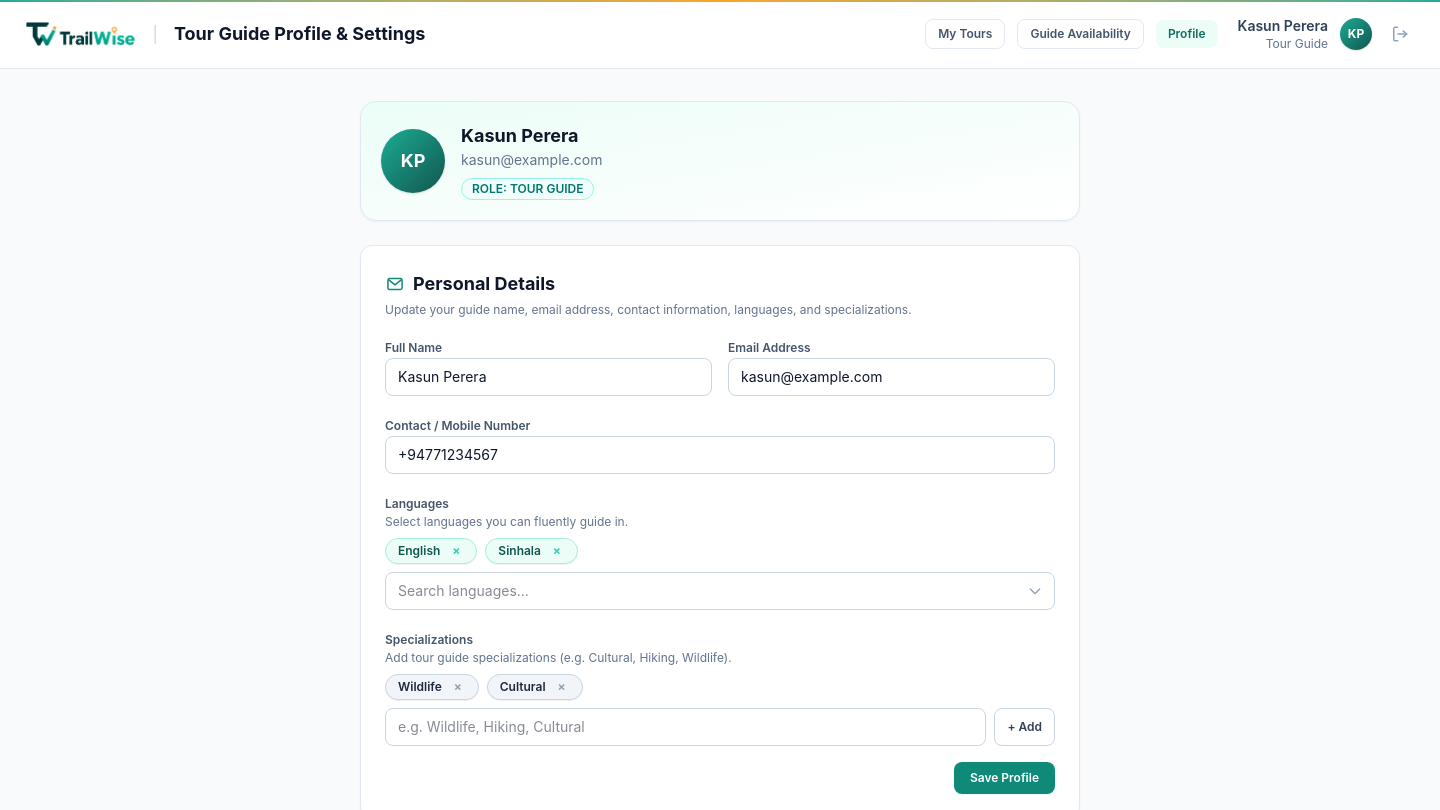
Scenario: GuideProfilePage › 10. save sends string[] array directly to updateMyGuideProfile
Expected: the text "English" is shown, [398,543,440,559]
Remove English chip
Click the button named "Remove English" at (456, 551), box [448,543,464,559]
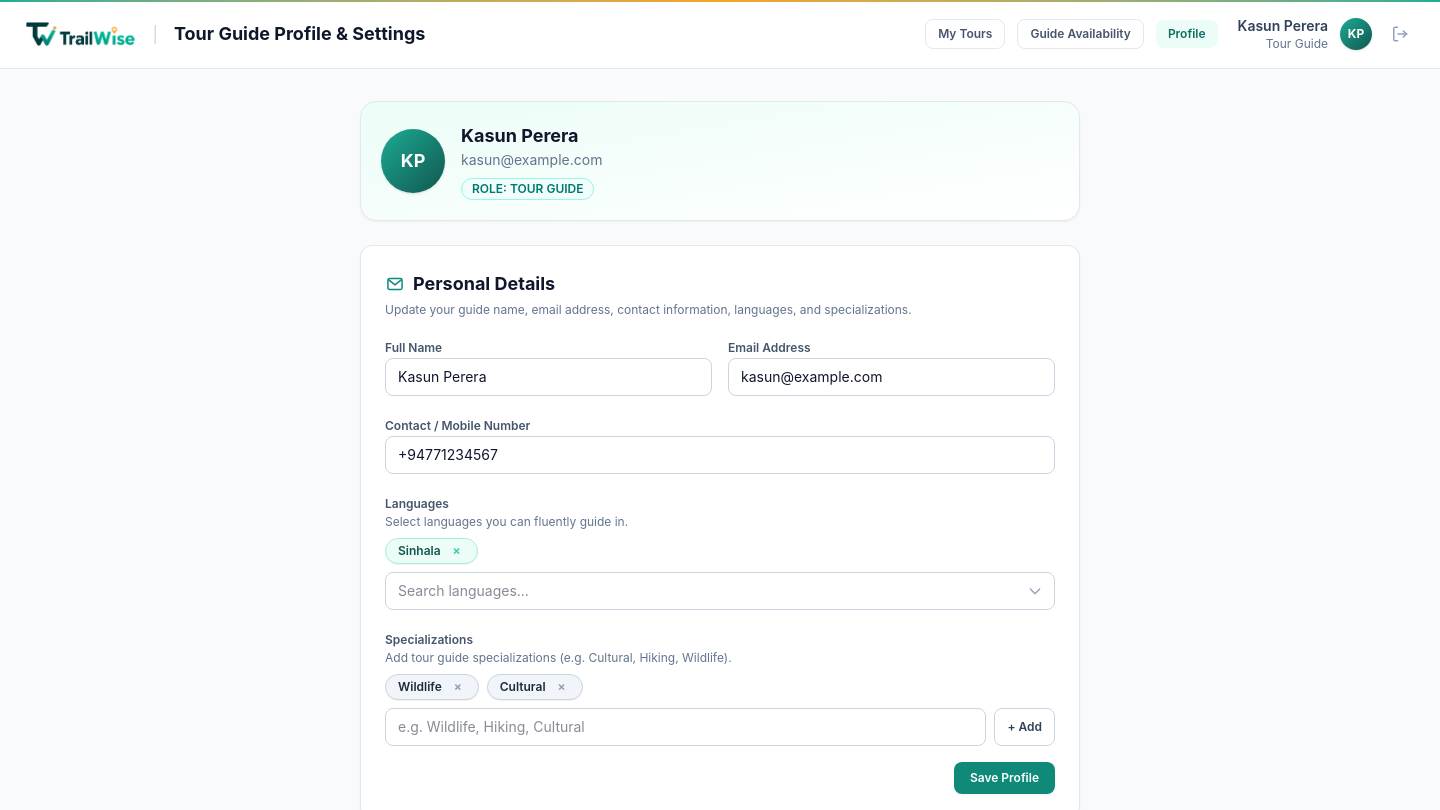
Add German via searchable combobox
Type "ger" into the dropdown with placeholder "Search languages..." at (720, 591), box [385,572,1055,610]
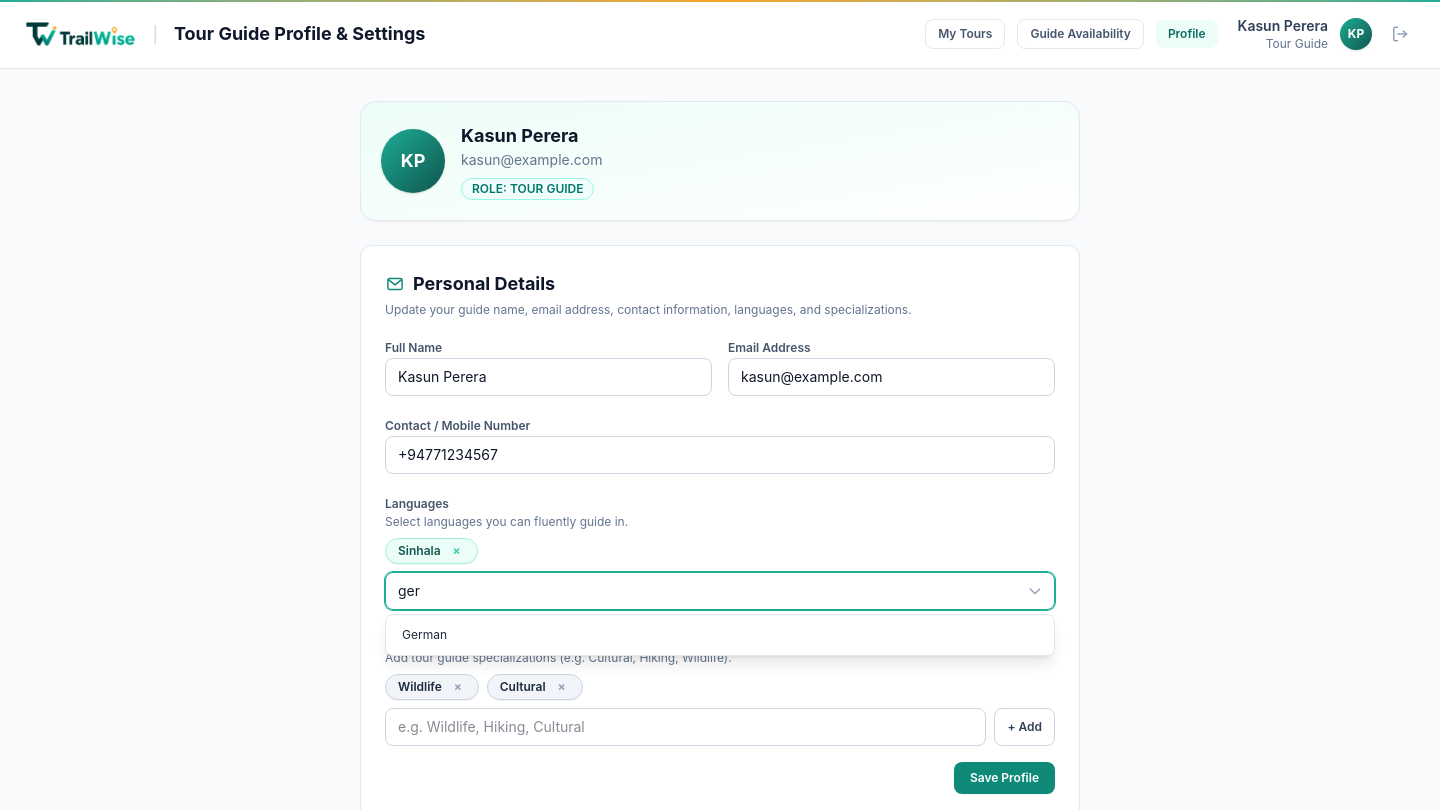
Click the option "German" at (424, 634), box [386,619,1054,651]
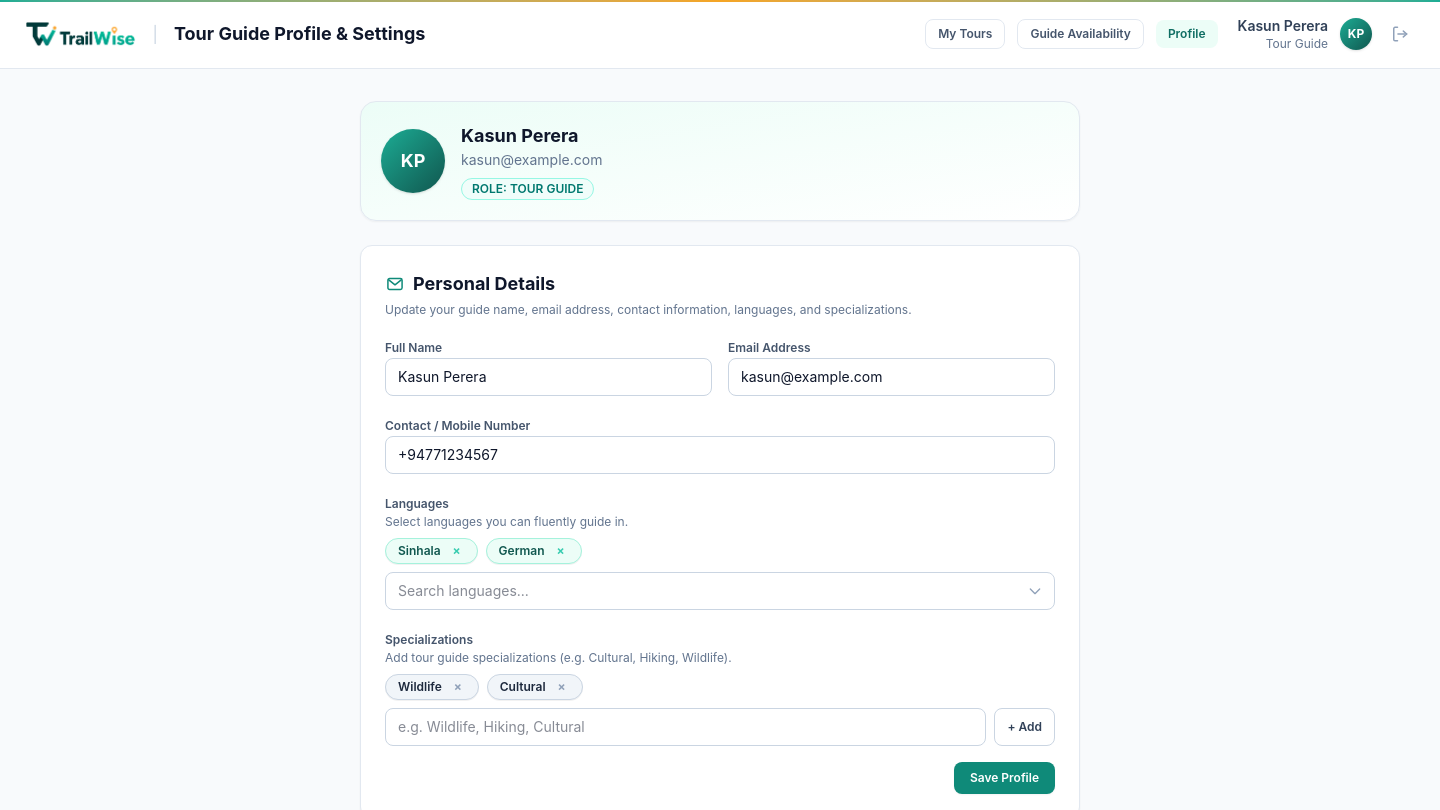
Add Hiking specialization
Type "Hiking" into the field with test id "specialization-input" at (686, 727), box [385,708,986,746]
Then press Enter
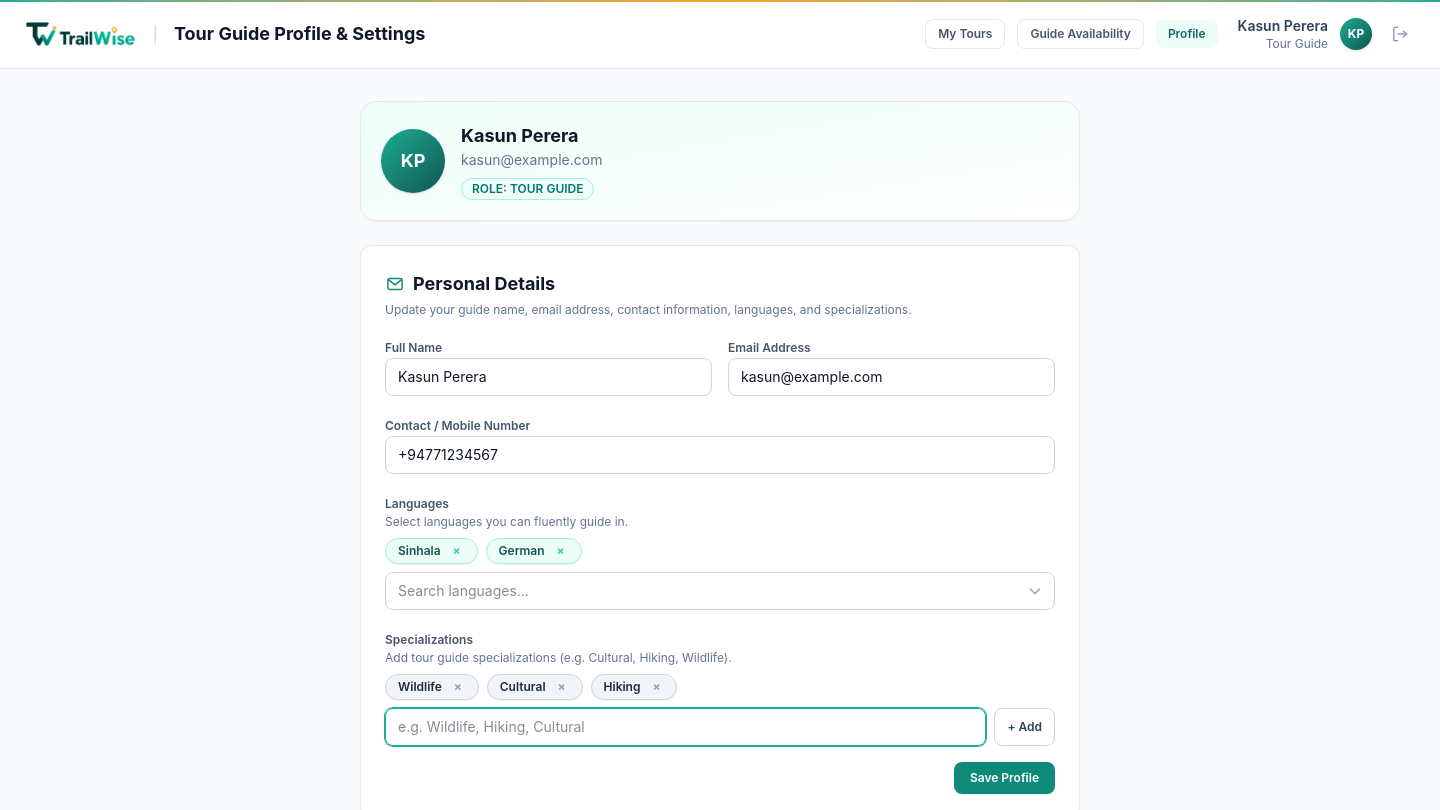
Click the button "Save Profile" at (1004, 778), box [954,762,1055,794]
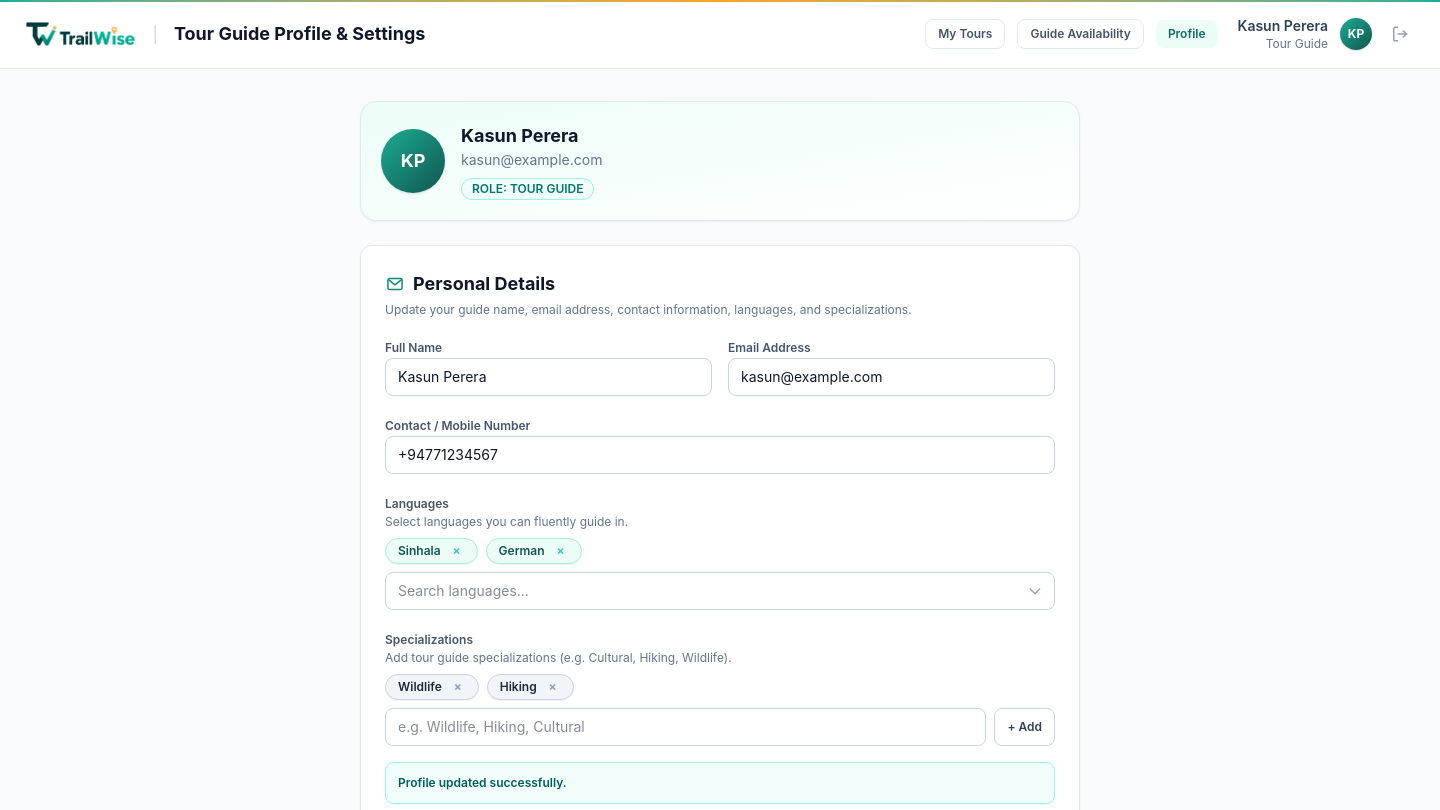
Expected: the text "Profile updated successfully." is shown, [385,762,1055,804]
